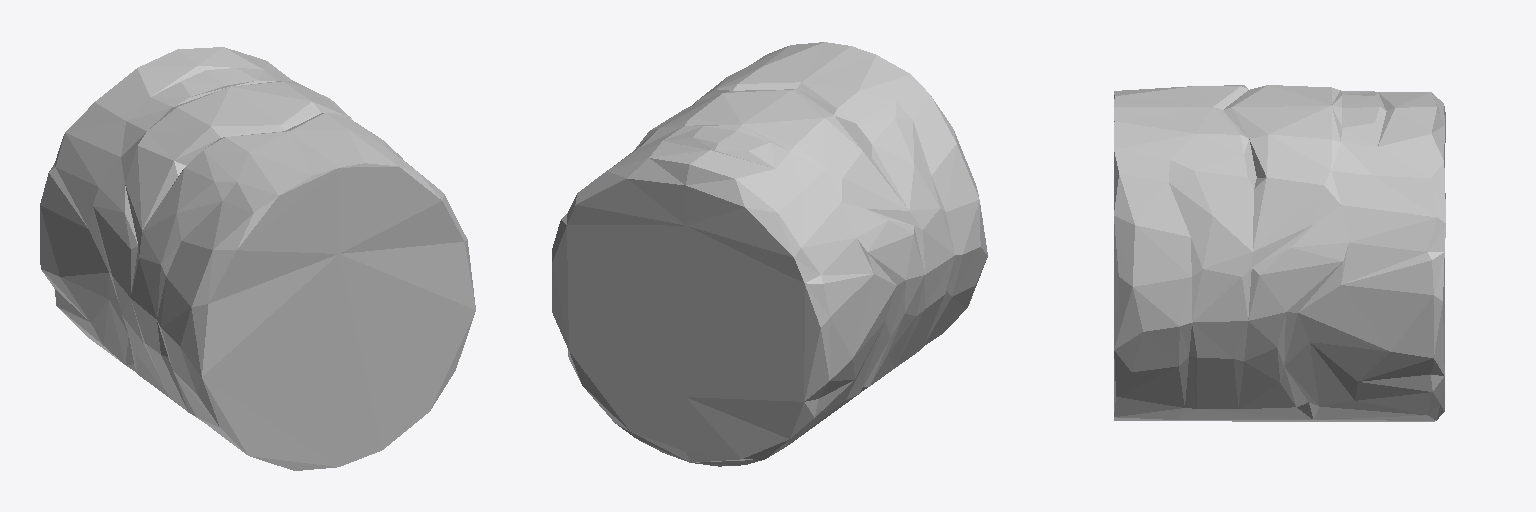
File: AvalancheR1.OBJ
3 renders of one model, left to right at view 1: azimuth 30°, elevation 25°; view 2: azimuth 150°, elevation 25°; view 3: azimuth 270°, elevation 25°, orthographic.
Parts seen in each view (by area): view 1: Group13660; view 2: Group13660; view 3: Group13660.
Boxes of the visible parts, <box> form: Group13660: <box>40,47,475,470</box>; Group13660: <box>552,42,987,466</box>; Group13660: <box>1114,85,1445,421</box>.
Bounding box in the file's own units: 2.02 × 2 × 2.01.